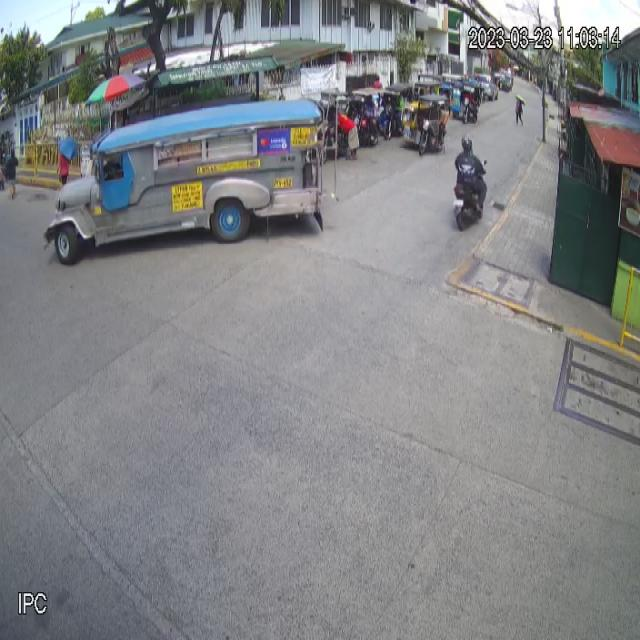Jeep: (42, 96, 325, 265)
